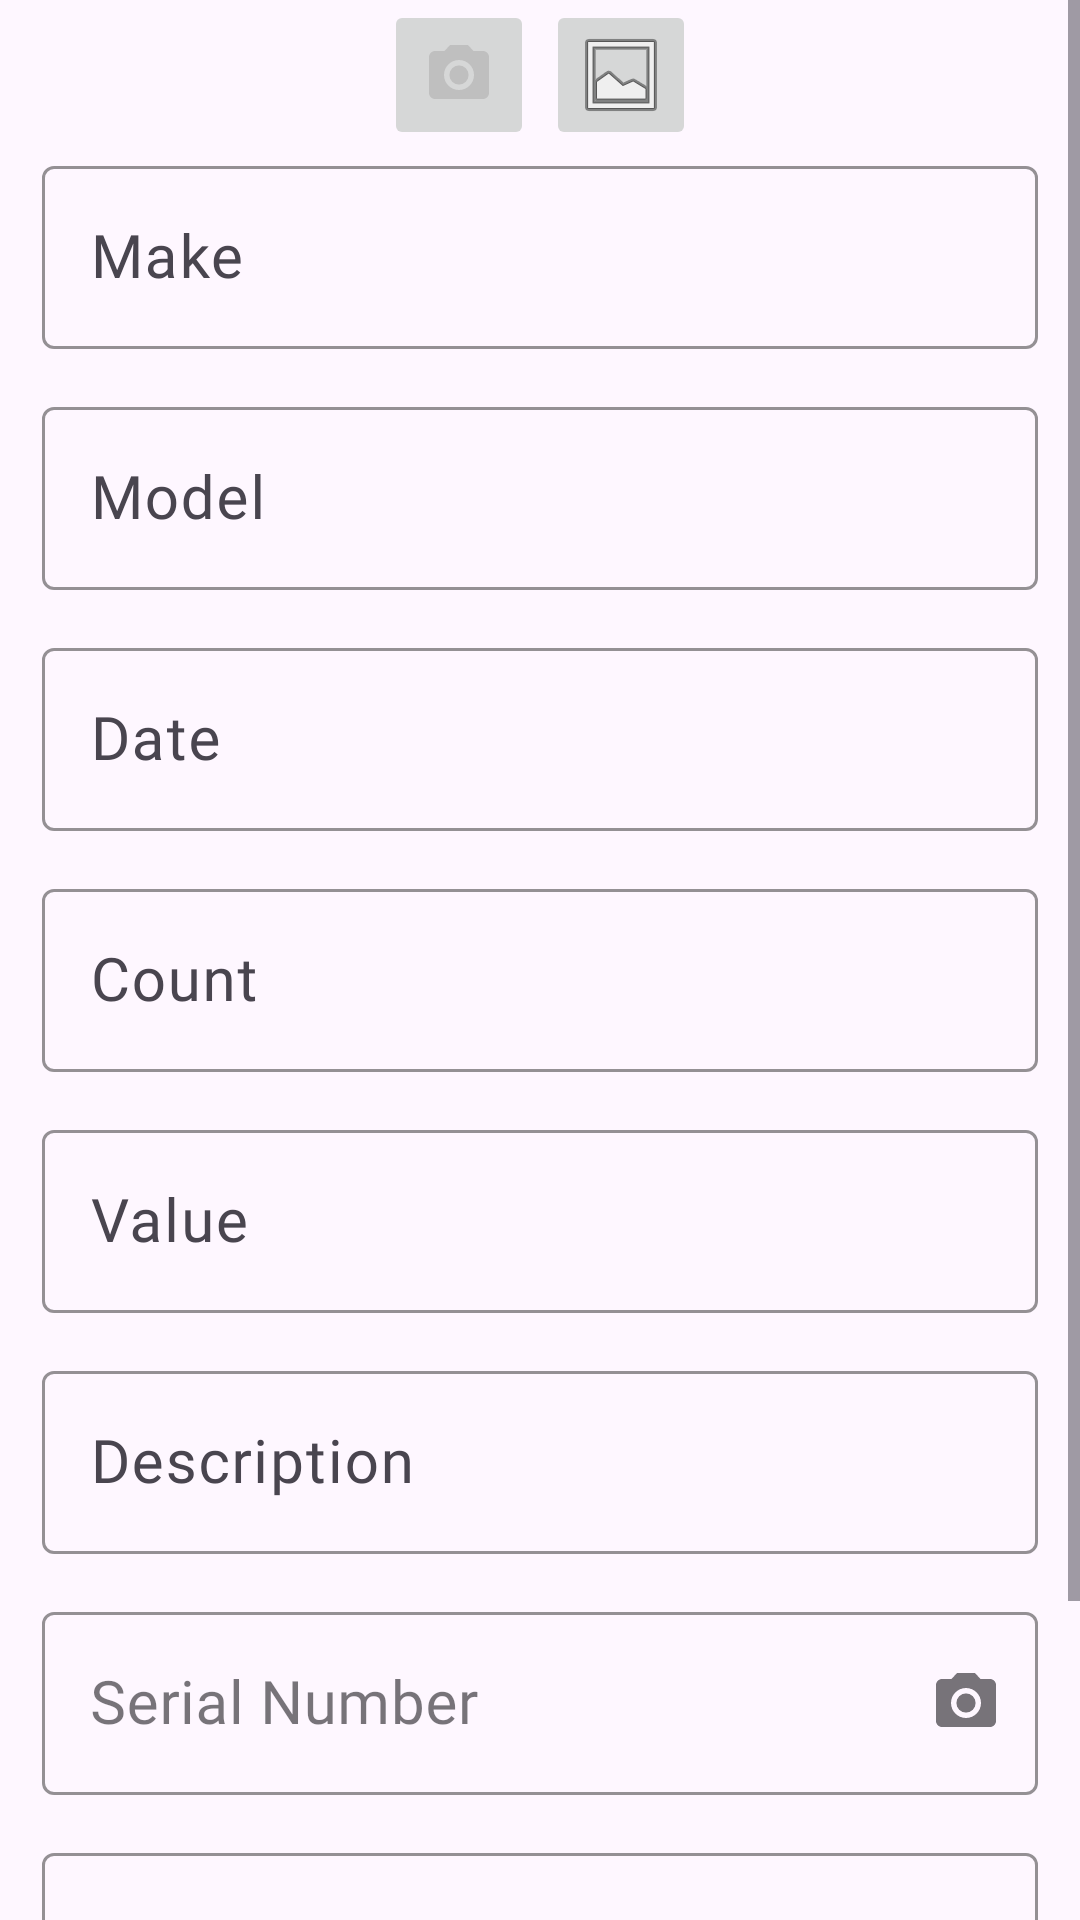

Screen size 1080*1920. Icon name, then its center in pixels as [x,y]:
gallery: [621,75]
